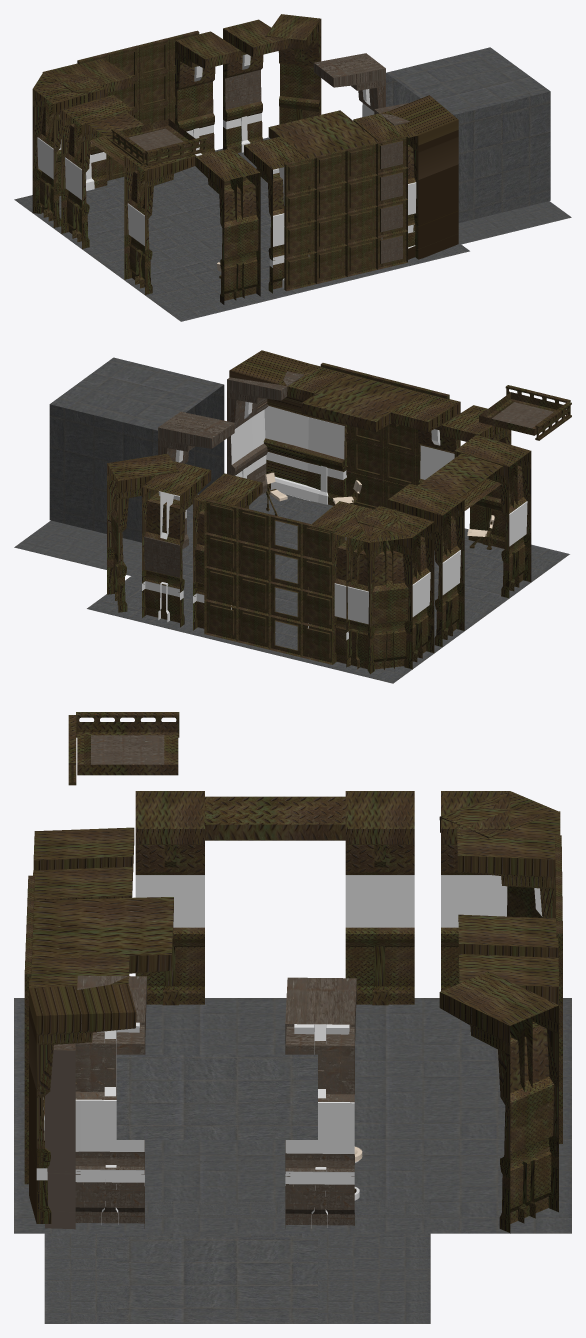
3 views of the same model, one above another, from view 1: azimuth 30°, elevation 25°; view 2: azimuth 150°, elevation 25°; view 3: azimuth 270°, elevation 25° (orthographic). The views are drawn at different scales.
Visible parts, largest first — view 1: Plane.003, Wall.Bar.Back.Unfurnished.001, Wall.Internal.014, Wall.Internal.012, Wall.Internal.017, Wall.Bar.Back.Unfurnished.002, Wall.Internal.016, Wall.Internal.002, Wall.Internal.009, Wall.Internal.001, Wall.Internal.003, Wall.Internal.013 (+9 smaller); view 2: Plane.003, Wall.Bar.Back.Unfurnished.002, Wall.Internal.014, Wall.Internal.017, Wall.Bar.Back.Unfurnished.001, Wall.Internal.005, Wall.Internal.002, Wall.Internal.001, Wall.Internal.004, Wall.Internal.003, Wall.Internal.010, Wall.Bar.Back.Overhang (+8 smaller); view 3: Plane.003, Wall.Internal.010, Wall.Internal.009, Wall.Internal.002, Wall.Internal.011, Wall.Internal.001, Wall.Internal.014, Wall.Bar.Back.Overhang, Ceiling.Panels, Wall.Internal.003, Wall.Door.Overhang, Wall.Internal.015 (+8 smaller).
Part boxes in pixels (x1,y1,x2,y2): Plane.003: (14, 47, 571, 321); Wall.Bar.Back.Unfurnished.001: (284, 135, 407, 291); Wall.Internal.014: (353, 95, 458, 266); Wall.Internal.012: (195, 148, 260, 304); Wall.Internal.017: (223, 19, 288, 152); Wall.Bar.Back.Unfurnished.002: (77, 30, 199, 180); Wall.Internal.016: (175, 31, 240, 155); Wall.Internal.002: (61, 95, 133, 248); Wall.Internal.009: (265, 14, 321, 124); Wall.Internal.001: (124, 150, 196, 294); Wall.Internal.003: (33, 74, 105, 227); Wall.Internal.013: (244, 136, 309, 293); Plane.003: (14, 357, 569, 683); Wall.Bar.Back.Unfurnished.002: (204, 499, 334, 664); Wall.Internal.014: (229, 350, 346, 505); Wall.Internal.017: (142, 461, 211, 627); Wall.Bar.Back.Unfurnished.001: (320, 363, 449, 509); Wall.Internal.005: (332, 508, 401, 674); Wall.Internal.002: (388, 483, 464, 646); Wall.Internal.001: (454, 435, 531, 598); Wall.Internal.004: (353, 509, 412, 673); Wall.Internal.003: (357, 505, 434, 668); Wall.Internal.010: (227, 371, 303, 496); Wall.Bar.Back.Overhang: (301, 374, 421, 431); Plane.003: (14, 998, 571, 1323); Wall.Internal.010: (45, 975, 146, 1229); Wall.Internal.009: (439, 971, 558, 1232); Wall.Internal.002: (345, 791, 414, 1005); Wall.Internal.011: (285, 977, 356, 1228); Wall.Internal.001: (135, 791, 204, 1005); Wall.Internal.014: (29, 955, 136, 1223); Wall.Bar.Back.Overhang: (32, 897, 173, 973); Ceiling.Panels: (68, 712, 179, 785); Wall.Internal.003: (441, 791, 510, 991); Wall.Door.Overhang: (205, 796, 345, 840); Wall.Internal.015: (457, 826, 555, 918).
Bounding box in the file's own units: 30.47 × 11.22 × 20.97.
27 materials, 12 textured.
